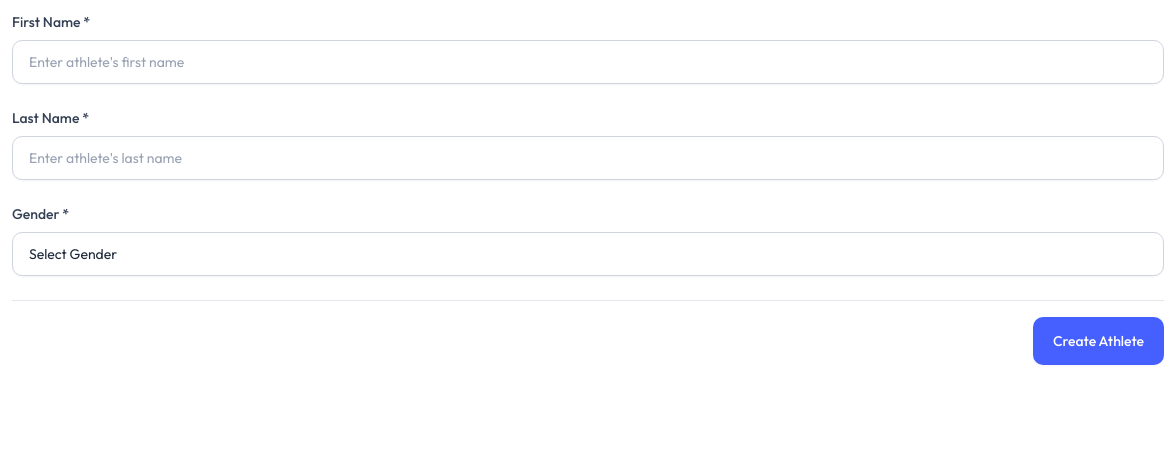
it: AthleteForm › Error Handling › handles API errors gracefully
The image size is (1176, 460).
Note: Fill and submit form
Type "John" into the field labelled "First Name *" at [588, 62], box [12,40,1164,84]
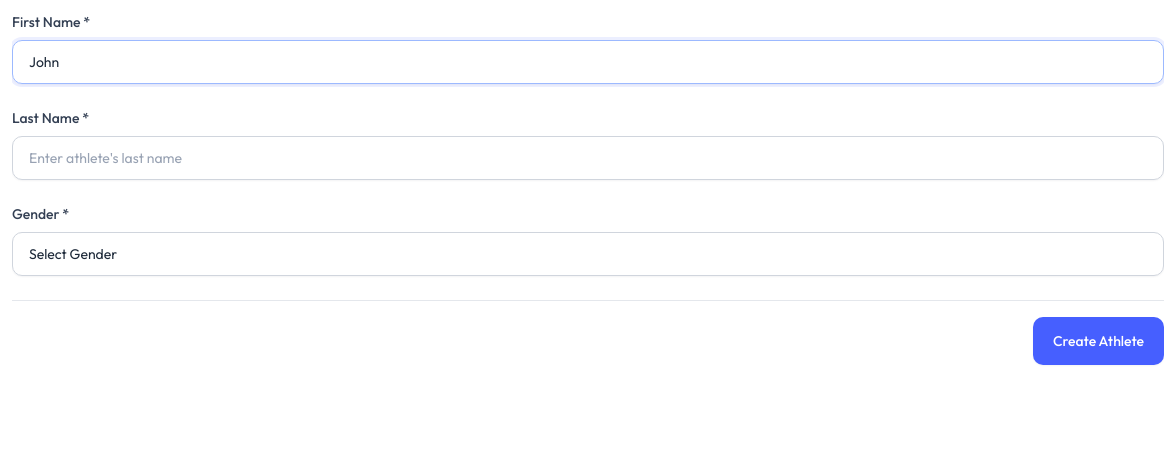
Type "Doe" into the field labelled "Last Name *" at [588, 158], box [12,136,1164,180]
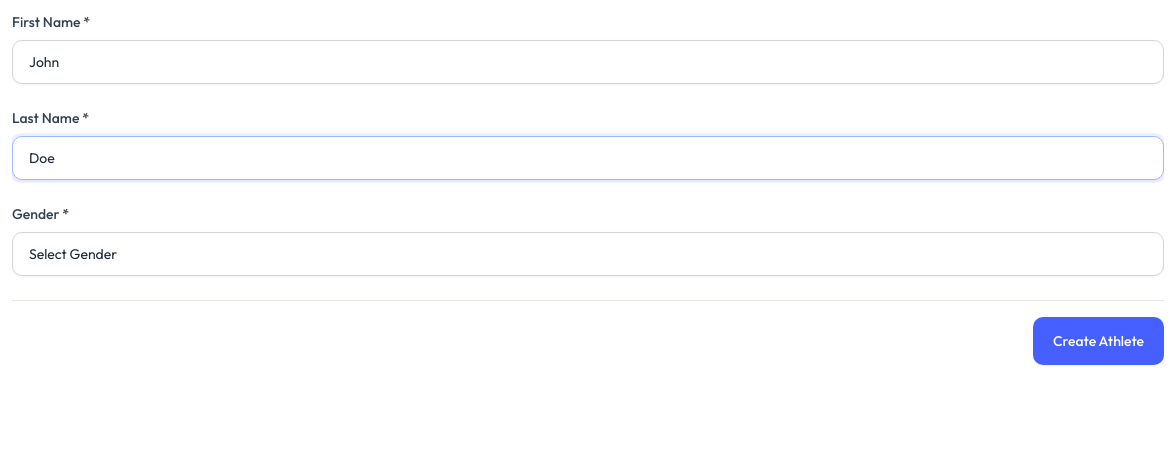
Select "Male" in the dropdown labelled "Gender *" at [588, 254], box [12,232,1164,276]
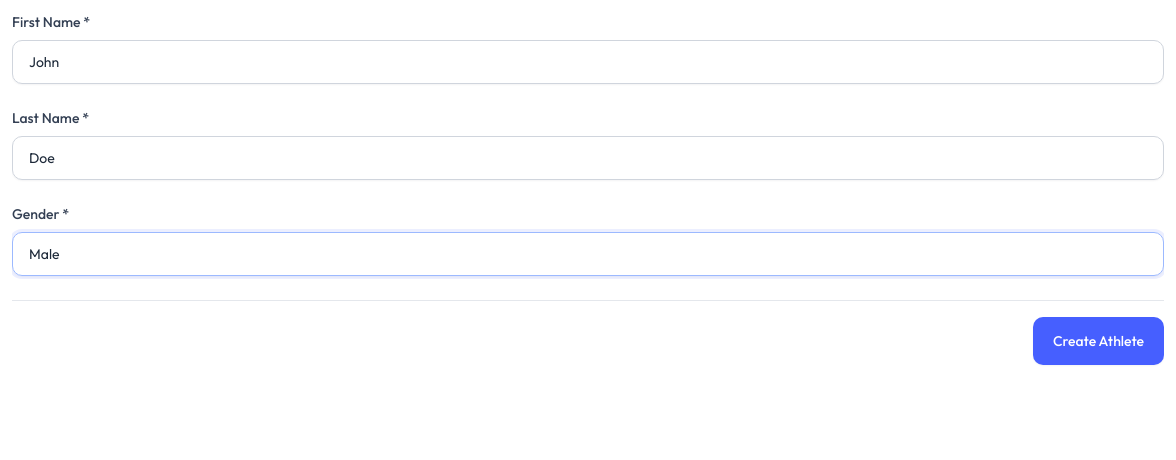
Click the button "Create Athlete" at [1098, 341], box [1033,317,1164,365]
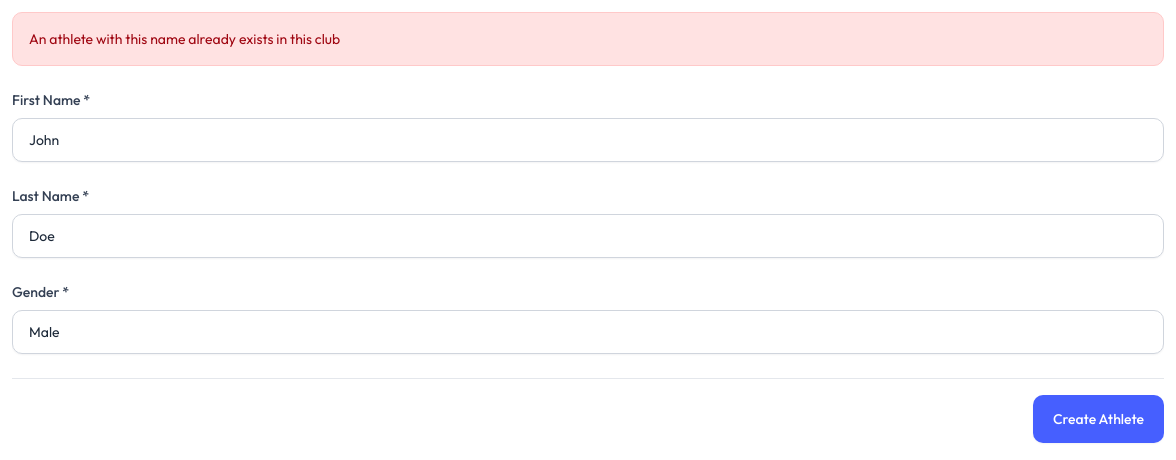
Expected: the text "An athlete with this name already exists in this club" is shown, [12,12,1164,66]
